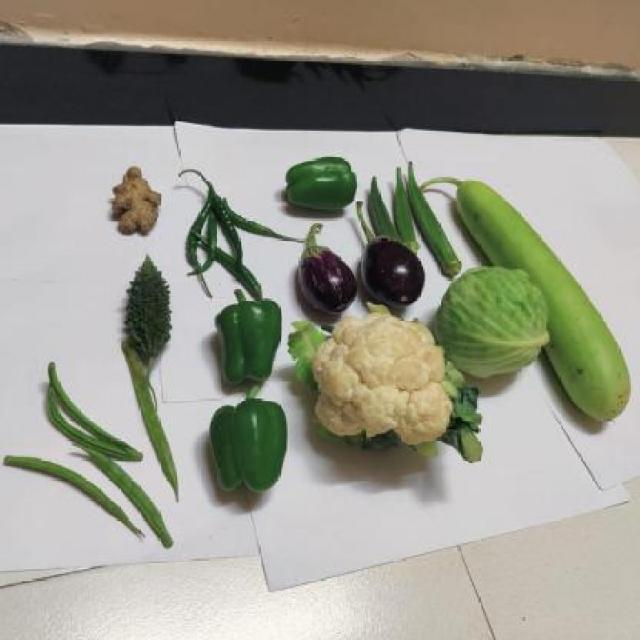Bitter melon: (114, 243, 183, 365)
Brinjal: (283, 227, 362, 316), (354, 223, 426, 306)
Cabbage: (432, 268, 556, 384)
Calabash: (442, 160, 580, 280)
Capsicum: (195, 382, 298, 500), (206, 289, 286, 386), (265, 144, 363, 222)
Cauliflower: (294, 315, 480, 463)
Ginger: (97, 164, 166, 238)
Green Chili: (174, 169, 280, 302)
Lady finger: (377, 158, 466, 272)
